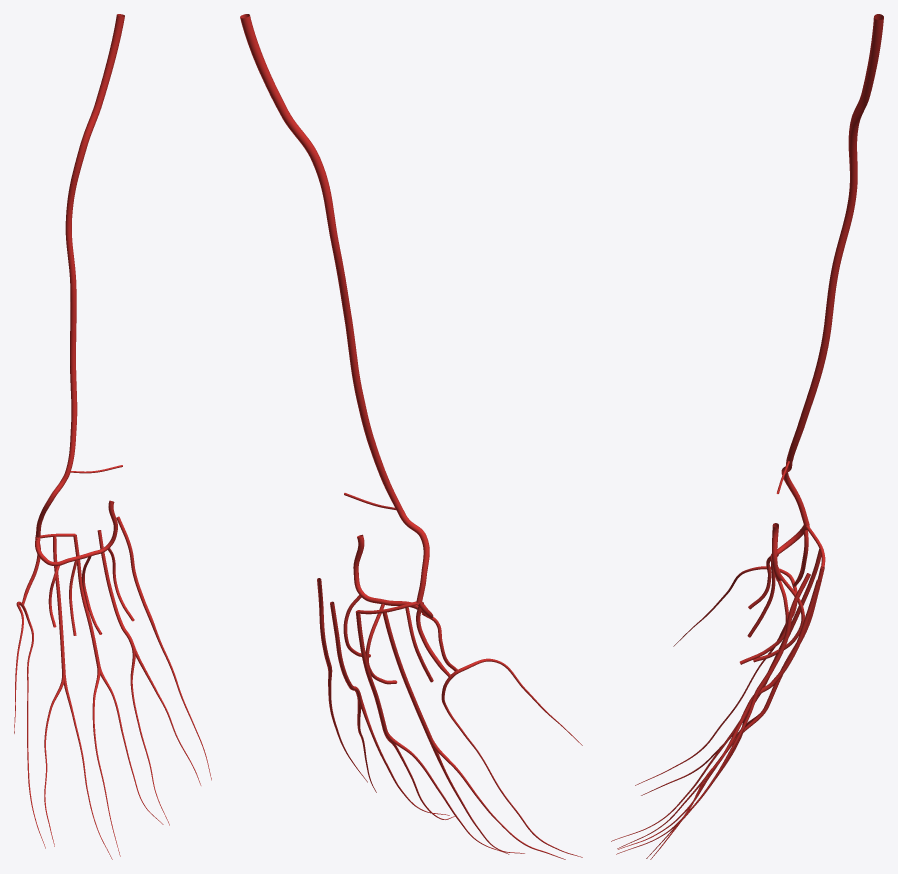
Rendered from circulatorio-radial-artery-r.glb.
The picture shows the model from 3 angles, left to right: view 1: azimuth 30°, elevation 25°; view 2: azimuth 150°, elevation 25°; view 3: azimuth 270°, elevation 25°; orthographic projection. The views are drawn at different scales.
Parts seen in each view (by area): view 1: Radial artery.r, Dorsal digital arteries of hand.r, Dorsal metacarpal arteries.r, Palmar metacarpal arteries.r, Deep palmar arch.r; view 2: Radial artery.r, Dorsal digital arteries of hand.r, Dorsal metacarpal arteries.r, Palmar metacarpal arteries.r, Deep palmar arch.r; view 3: Radial artery.r, Dorsal digital arteries of hand.r, Dorsal metacarpal arteries.r, Palmar metacarpal arteries.r, Deep palmar arch.r.
Part boxes in pixels (x1,y1,x2,y2): Radial artery.r: (35,14,124,537); Dorsal digital arteries of hand.r: (14,601,211,859); Dorsal metacarpal arteries.r: (22,516,151,671); Palmar metacarpal arteries.r: (48,548,134,635); Deep palmar arch.r: (35,500,117,566); Radial artery.r: (240,14,429,603); Dorsal digital arteries of hand.r: (327,658,582,859); Dorsal metacarpal arteries.r: (317,578,450,737); Palmar metacarpal arteries.r: (343,595,457,684); Deep palmar arch.r: (353,534,433,618); Radial artery.r: (781,14,883,526); Dorsal digital arteries of hand.r: (611,566,797,859); Dorsal metacarpal arteries.r: (750,524,824,706); Palmar metacarpal arteries.r: (739,554,804,664); Deep palmar arch.r: (770,523,809,581).
Bounding box in the file's own units: 0.106 × 0.3833 × 0.1057.
